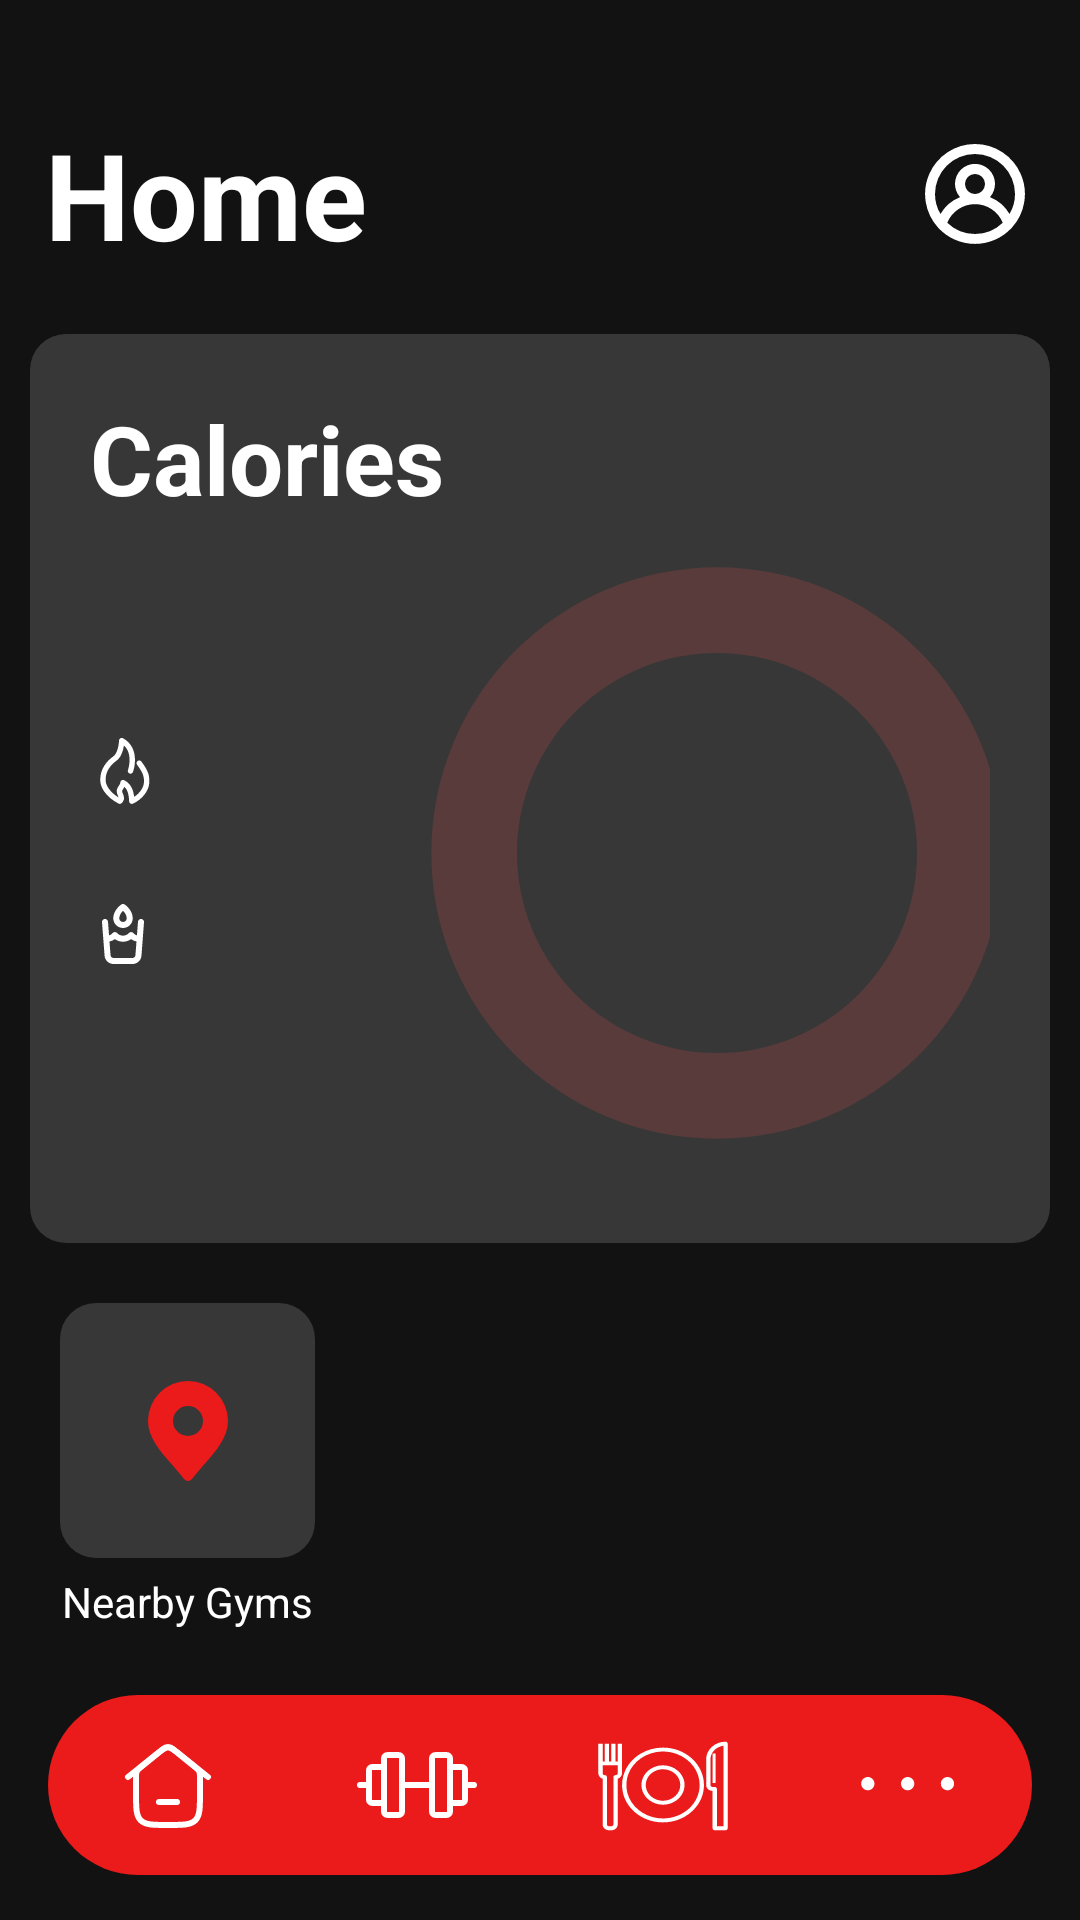

Screen size 1080x1920. Icon name, then its center in pixels as point (x, y):
fitness: point (417, 1785)
food: point (663, 1786)
Home: point (168, 1786)
Profile: point (975, 194)
